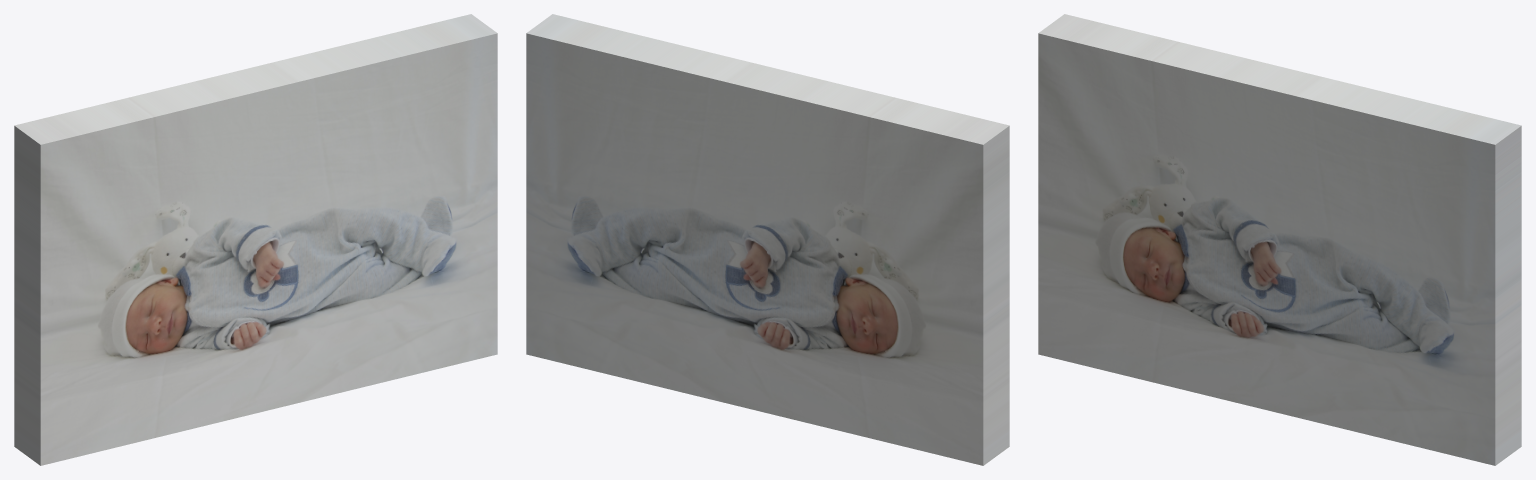
The model's file is surprise.obj.
3 renders of one model, left to right at view 1: azimuth 30°, elevation 25°; view 2: azimuth 150°, elevation 25°; view 3: azimuth 330°, elevation 25°, orthographic.
Visible parts, largest first — view 1: Object.1; view 2: Object.1; view 3: Object.1.
Boxes of the visible parts, left/top/right/bottom form: Object.1: left=14, top=14, right=497, bottom=465; Object.1: left=526, top=14, right=1009, bottom=465; Object.1: left=1038, top=14, right=1521, bottom=465.
Bounding box in the file's own units: 224 × 150 × 22.43.
1 material, 1 textured.
